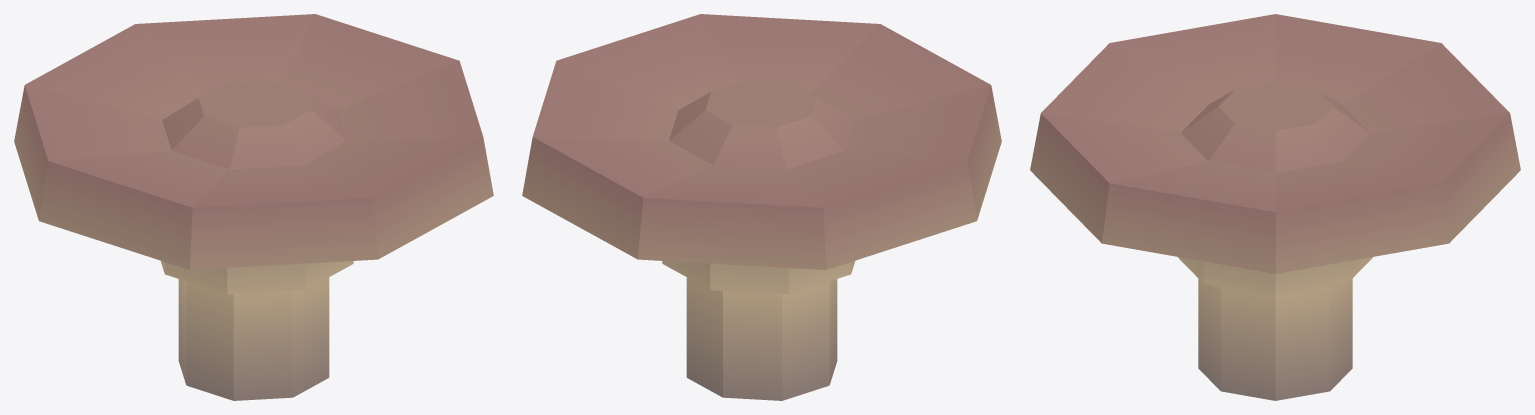
The model's file is Mushroom2.glb.
The picture shows the model from 3 angles, left to right: view 1: azimuth 30°, elevation 25°; view 2: azimuth 150°, elevation 25°; view 3: azimuth 270°, elevation 25°; orthographic projection.
Visible parts, largest first — view 1: Mushroom2; view 2: Mushroom2; view 3: Mushroom2.
Part boxes in pixels (left/top/right/bottom): Mushroom2: left=14, top=14, right=493, bottom=400; Mushroom2: left=522, top=14, right=1001, bottom=400; Mushroom2: left=1030, top=14, right=1520, bottom=400.
Size of the model in its own units: 0.8485 by 0.4995 by 0.8485.
1 material, 1 textured.
